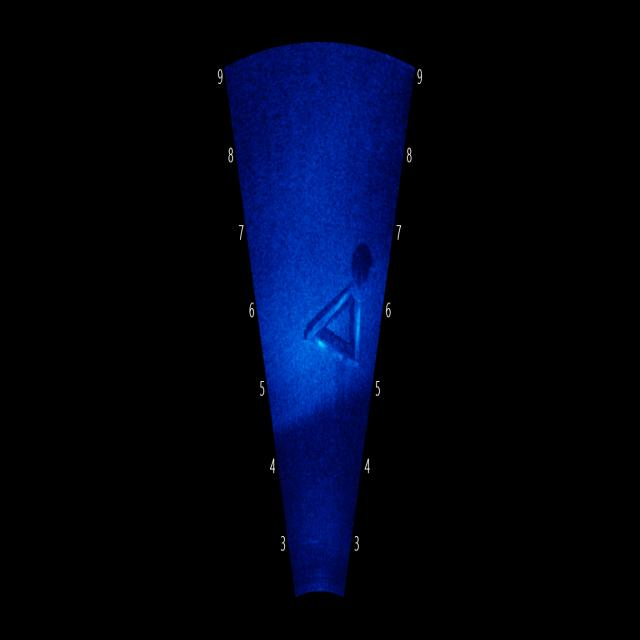triangle: (289, 230, 372, 380)
